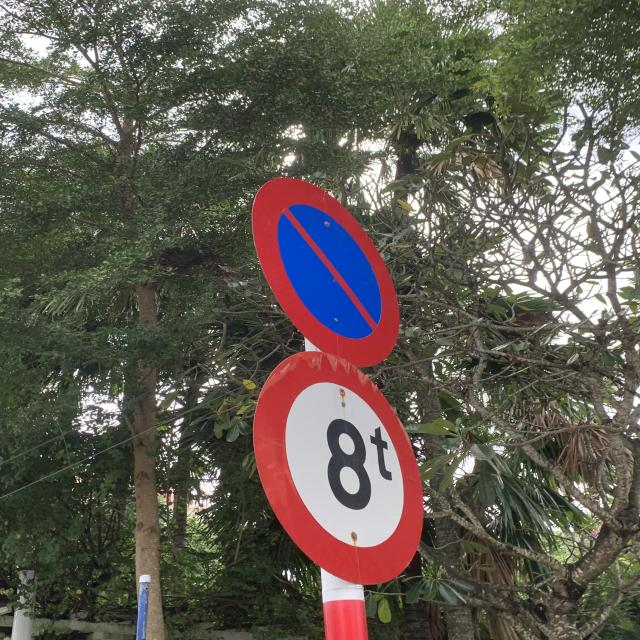Cam_Dau_Xe: (255, 174, 408, 362)
